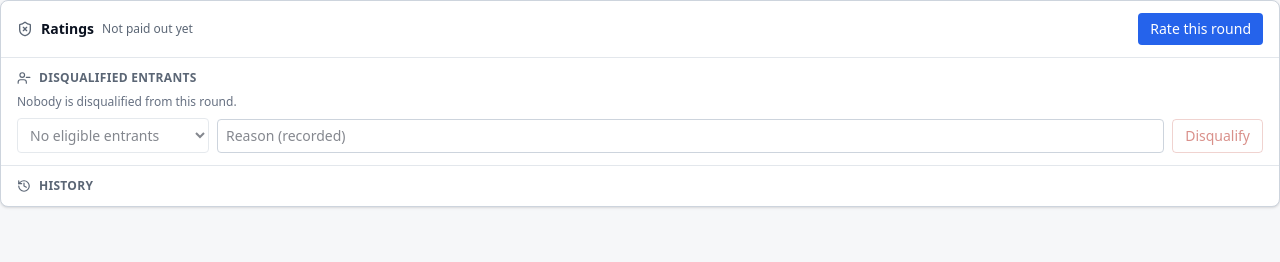
Test: ContestRatingLedger › reports how many entrants a payout rated, not just that it finished
Click the button "Rate this round" at (1201, 29), box [1138, 13, 1263, 45]
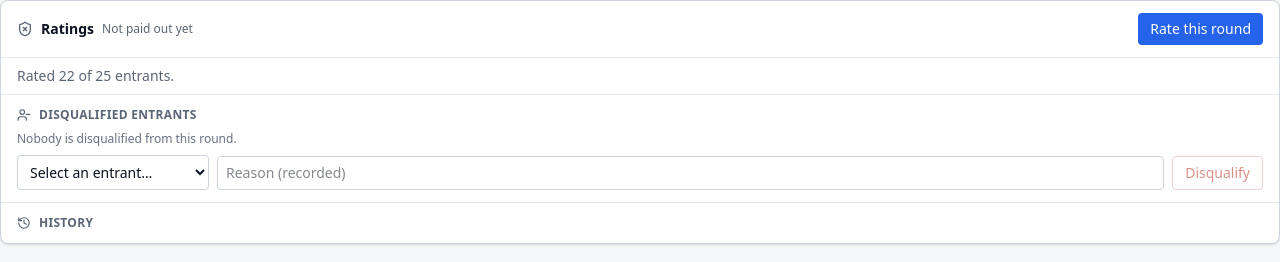
Result: the text "Rated 22 of 25 entrants." is shown at [1, 58, 1279, 95]
